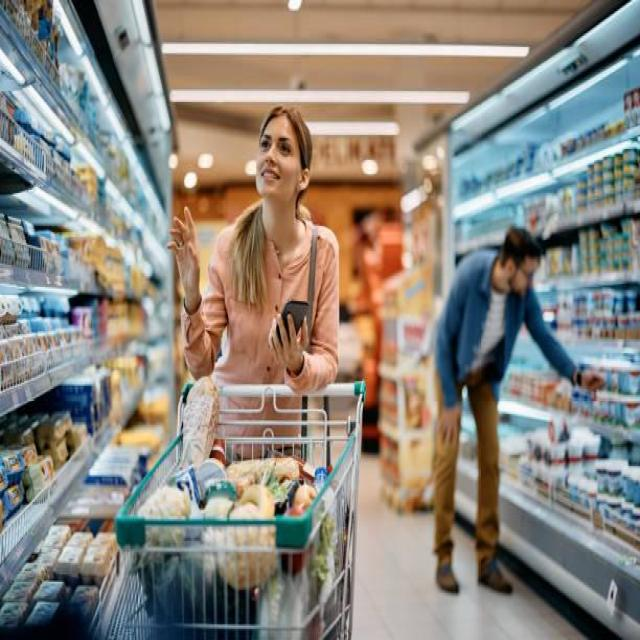bags: (435, 249, 497, 403), (489, 289, 575, 397)
hands: (167, 207, 200, 311), (269, 300, 310, 372), (439, 406, 460, 442), (574, 369, 604, 391)
person: (435, 227, 603, 593), (167, 107, 338, 392)
